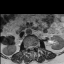CCS_normal: (29, 44, 32, 52)
LFS_normal: (34, 43, 36, 50)
LLS_normal: (32, 44, 34, 51)
RFS_normal: (25, 43, 27, 51)
RLS_normal: (27, 44, 29, 51)
